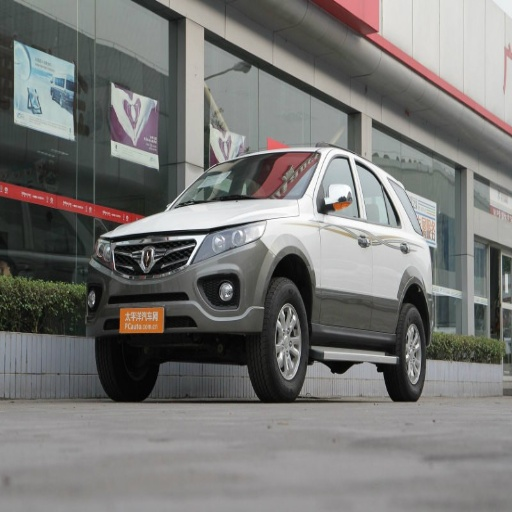front_bumper: (89, 228, 273, 338)
front_glass: (175, 152, 318, 206)
front_left_door: (315, 151, 371, 332)
